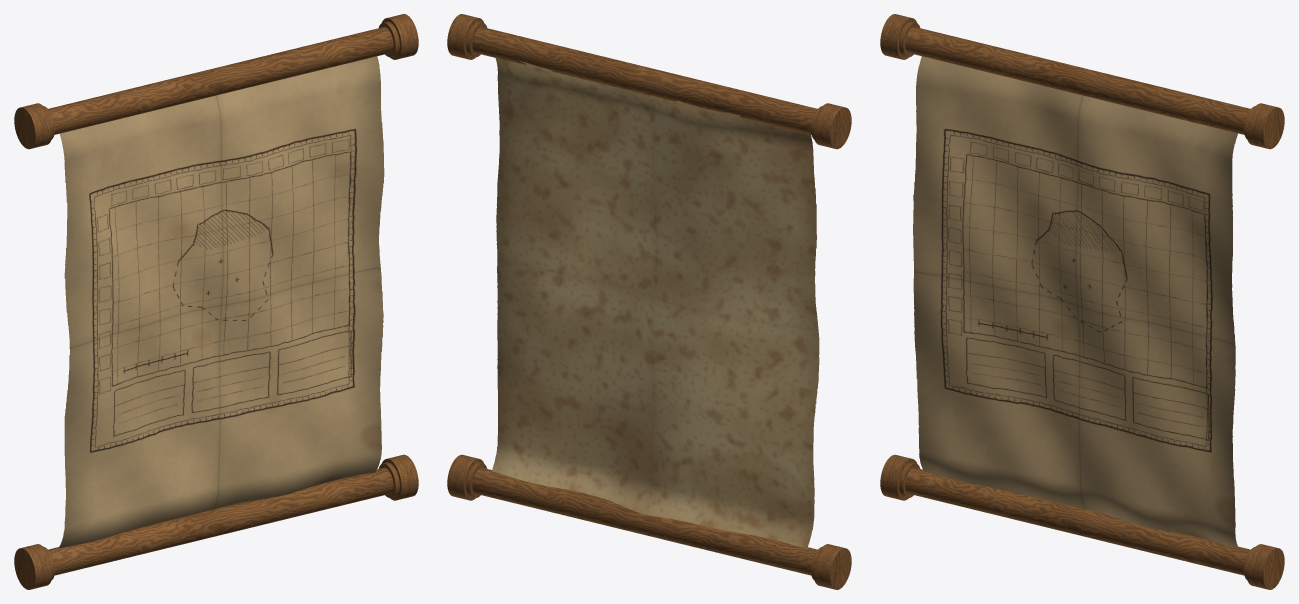
The model's file is pergamino_3.glb.
The picture shows the model from 3 angles, left to right: view 1: azimuth 30°, elevation 25°; view 2: azimuth 150°, elevation 25°; view 3: azimuth 330°, elevation 25°; orthographic projection.
Visible parts, largest first — view 1: Hoja_frente, Rodillo_superior, Rodillo_inferior; view 2: Hoja_reverso, Rodillo_superior, Rodillo_inferior; view 3: Hoja_frente, Rodillo_superior, Rodillo_inferior.
Boxes of the visible parts, box(x1,y1,x2,y2) form: Hoja_frente: box(58, 56, 384, 548); Rodillo_superior: box(14, 14, 418, 149); Rodillo_inferior: box(14, 454, 418, 589); Hoja_reverso: box(492, 58, 819, 548); Rodillo_superior: box(447, 14, 851, 149); Rodillo_inferior: box(447, 454, 851, 589); Hoja_frente: box(913, 56, 1238, 549); Rodillo_superior: box(880, 14, 1284, 149); Rodillo_inferior: box(880, 454, 1284, 589).
Size of the model in its own units: 0.362 by 0.433 by 0.0357.
3 materials, 3 textured.
